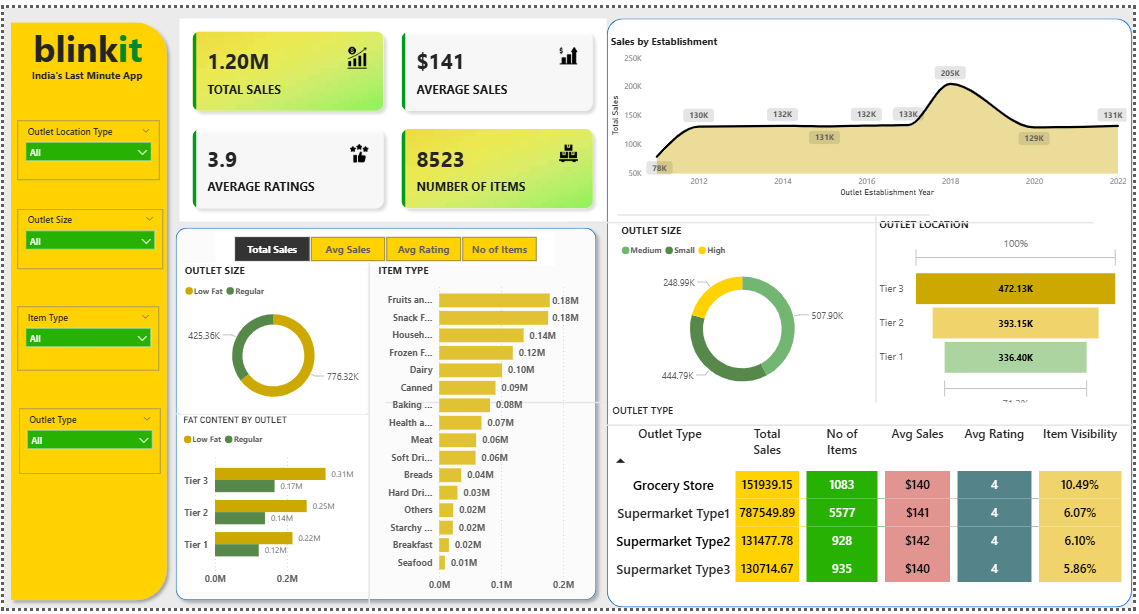

Layout of this report page (visuals, bound fields, positions):
{"tool":"powerbi","page":{"name":"Page 1","canvas":[1505,800],"ordinal":0},"visuals":[{"type":"shape","box":[0,10.7,226.1,788.7],"z":0},{"type":"textbox","box":[33.4,14.3,170.2,79.5],"z":1000},{"type":"textbox","box":[26.5,74.2,169.7,40.6],"z":2000},{"type":"cardVisual","fields":{"Data":["BlinkIT Grocery Data.Total Sales","BlinkIT Grocery Data.Average Sales","BlinkIT Grocery Data.Average Rating","BlinkIT Grocery Data.Number of Items"]},"box":[233.8,14.3,569.4,270.4],"z":3000},{"type":"shape","box":[220.2,284.8,578.6,514.5],"z":4000},{"type":"slicer","fields":{"Values":["Metrics.Metrics"]},"box":[281.3,297.3,452.2,46.3],"z":5000},{"type":"cardVisual","fields":{"Data":["BlinkIT Grocery Data.Total Sales"]},"box":[309.8,425.5,99.7,71.2],"z":6000},{"type":"clusteredBarChart","title":"FAT CONTENT BY OUTLET","fields":{"Y":["BlinkIT Grocery Data.Total Sales"],"Category":["BlinkIT Grocery Data.Outlet Location Type"],"Series":["BlinkIT Grocery Data.Item Fat Content"]},"box":[233.2,541.2,252.8,236.8],"z":7000},{"type":"shape","box":[226.1,527,259.9,30.3],"z":8000},{"type":"shape","box":[477.1,340.1,17.8,457.6],"z":9000},{"type":"shape","box":[507.4,509.2,297.3,32],"z":10000},{"type":"barChart","title":"ITEM TYPE","fields":{"Y":["BlinkIT Grocery Data.Total Sales"],"Category":["BlinkIT Grocery Data.Item Type"]},"box":[494.9,340.1,292,446.9],"z":11000},{"type":"shape","box":[804.7,14.2,699.7,785.1],"z":12000},{"type":"lineChart","title":"Sales by Establishment","fields":{"Y":["BlinkIT Grocery Data.Total Sales"],"Category":["BlinkIT Grocery Data.Outlet Establishment Year"]},"box":[804.7,33.8,697.9,222.5],"z":13000},{"type":"shape","box":[819,268.8,416.6,16],"z":14000},{"type":"donutChart","title":"OUTLET SIZE","fields":{"Y":["BlinkIT Grocery Data.Total Sales"],"Category":["BlinkIT Grocery Data.Outlet Size"]},"box":[818.3,286.3,332.3,238.6],"z":15000},{"type":"shape","box":[1150.1,277.7,24.9,256.4],"z":16000},{"type":"funnel","title":"OUTLET LOCATION","fields":{"Y":["Sum(BlinkIT Grocery Data.Sales)"],"Category":["BlinkIT Grocery Data.Outlet Location Type"]},"box":[1162.6,277.7,329.4,265.3],"z":17000},{"type":"pivotTable","title":"OUTLET TYPE","fields":{"Rows":["BlinkIT Grocery Data.Outlet Type"],"Values":["BlinkIT Grocery Data.Total Sales","BlinkIT Grocery Data.No of Items","BlinkIT Grocery Data.Avg Sales","BlinkIT Grocery Data.Avg Rating","Avg(BlinkIT Grocery Data.Item Visibility)"]},"box":[806.5,527,696.1,252.8],"z":18000},{"type":"shape","box":[752.9,279.2,699.9,12.4],"z":19000},{"type":"shape","box":[804.7,550.1,699.7,12.5],"z":20000},{"type":"slicer","fields":{"Values":["BlinkIT Grocery Data.Outlet Location Type"]},"box":[17.7,150.2,189.1,79.5],"z":21000},{"type":"slicer","fields":{"Values":["BlinkIT Grocery Data.Outlet Size"]},"box":[17.8,268.8,194.1,80.1],"z":22000},{"type":"slicer","fields":{"Values":["BlinkIT Grocery Data.Item Type"]},"box":[17.8,397,188.7,85.5],"z":23000},{"type":"donutChart","title":"OUTLET SIZE","fields":{"Y":["BlinkIT Grocery Data.Total Sales"],"Category":["BlinkIT Grocery Data.Item Fat Content"]},"box":[236.8,340.1,245.7,201.2],"z":24000},{"type":"slicer","fields":{"Values":["BlinkIT Grocery Data.Outlet Type"]},"box":[19.6,534.1,188.7,87.2],"z":25000}]}

Visuals, with their boxes in screenshot pixels (x1, y1, x2, y2), scaled from the page's 1505x800 canvas onto the 1139x614 screenshot:
shape: l=0, t=8, r=171, b=613
textbox: l=25, t=11, r=154, b=72
textbox: l=20, t=57, r=148, b=88
cardVisual - BlinkIT Grocery Data.Total Sales x BlinkIT Grocery Data.Average Sales: l=177, t=11, r=608, b=219
shape: l=167, t=219, r=605, b=613
slicer - Metrics.Metrics: l=213, t=228, r=555, b=264
cardVisual - BlinkIT Grocery Data.Total Sales: l=234, t=327, r=310, b=381
"FAT CONTENT BY OUTLET" clusteredBarChart: l=176, t=415, r=368, b=597
shape: l=171, t=404, r=368, b=428
shape: l=361, t=261, r=375, b=612
shape: l=384, t=391, r=609, b=415
"ITEM TYPE" barChart: l=375, t=261, r=596, b=604
shape: l=609, t=11, r=1138, b=613
"Sales by Establishment" lineChart: l=609, t=26, r=1137, b=197
shape: l=620, t=206, r=935, b=219
"OUTLET SIZE" donutChart: l=619, t=220, r=871, b=403
shape: l=870, t=213, r=889, b=410
"OUTLET LOCATION" funnel: l=880, t=213, r=1129, b=417
"OUTLET TYPE" pivotTable: l=610, t=404, r=1137, b=598
shape: l=570, t=214, r=1099, b=224
shape: l=609, t=422, r=1138, b=432
slicer - BlinkIT Grocery Data.Outlet Location Type: l=13, t=115, r=157, b=176
slicer - BlinkIT Grocery Data.Outlet Size: l=13, t=206, r=160, b=268
slicer - BlinkIT Grocery Data.Item Type: l=13, t=305, r=156, b=370
"OUTLET SIZE" donutChart: l=179, t=261, r=365, b=415
slicer - BlinkIT Grocery Data.Outlet Type: l=15, t=410, r=158, b=477
